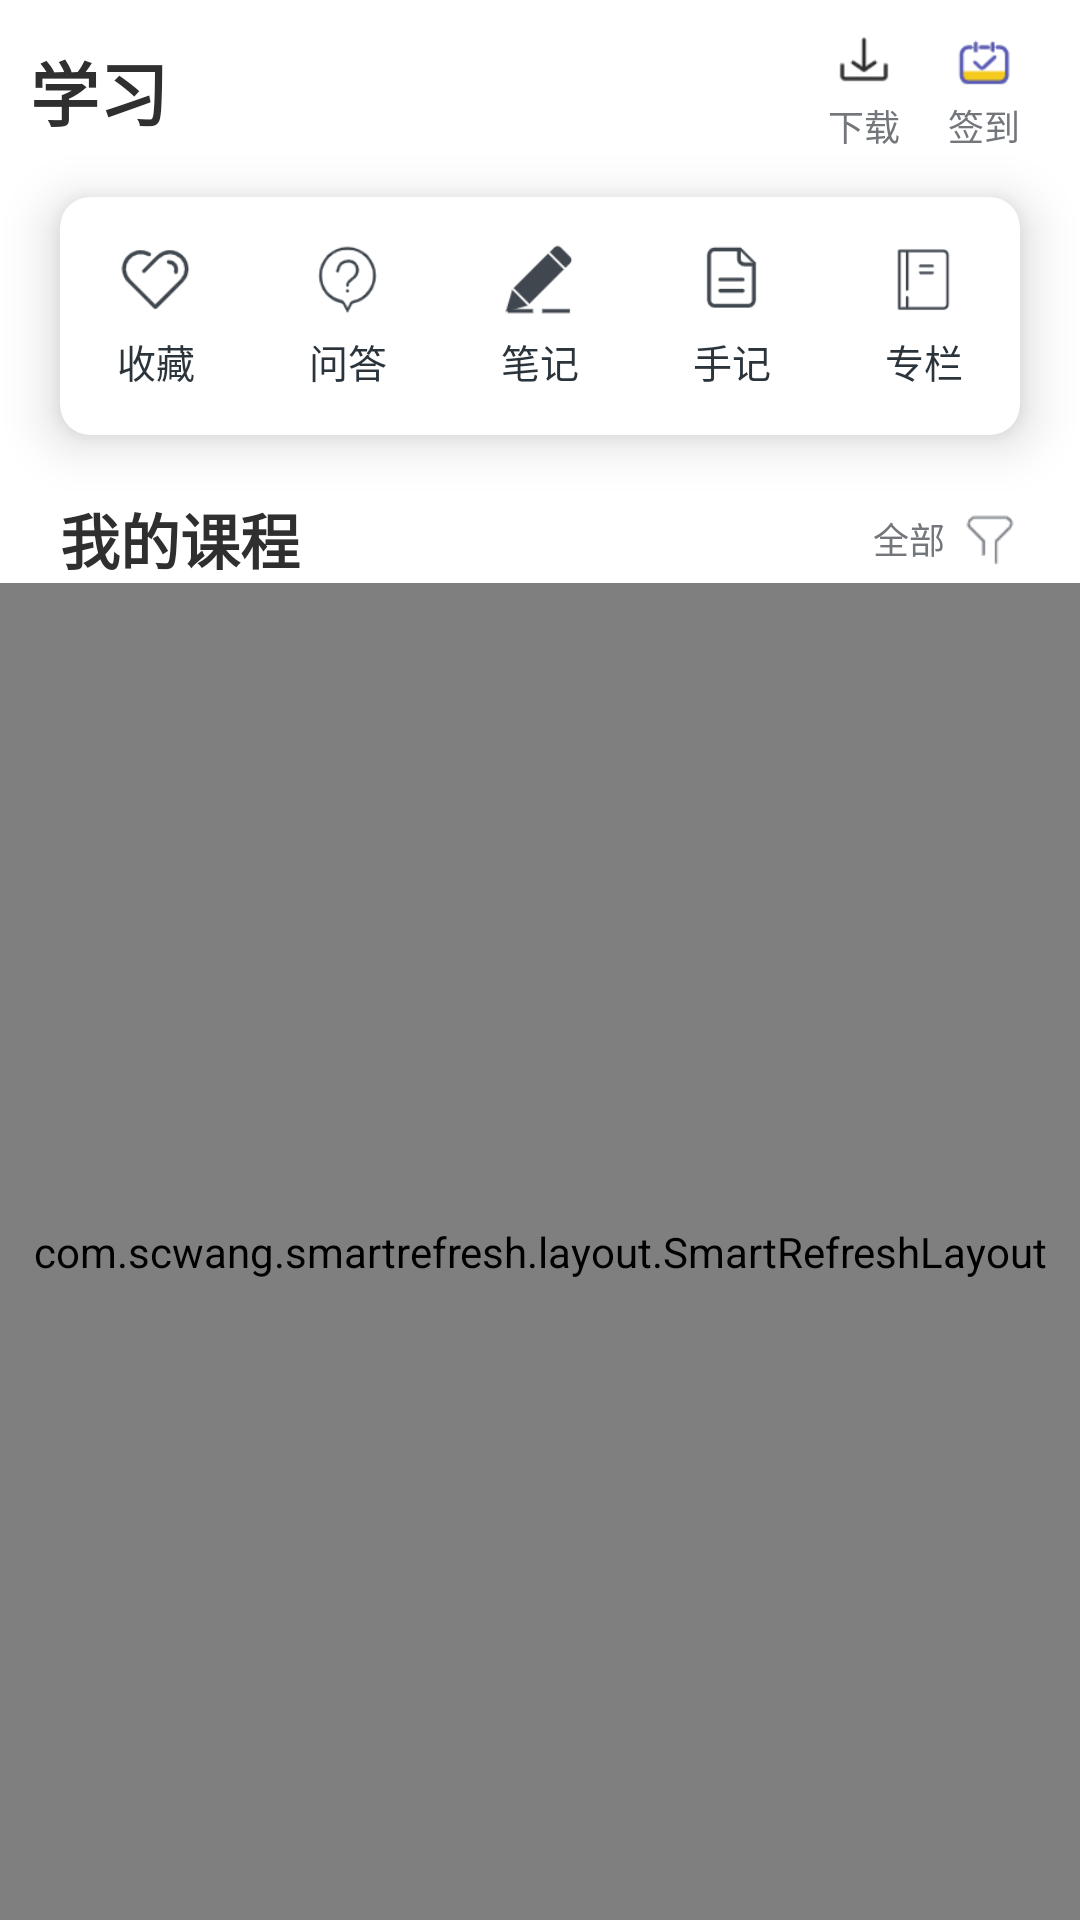

Screen size 1080 x 1920. Icon name, then its box in pixels as (left=x1, top=y1, right=x2, bottom=y2):
select: (left=966, top=515, right=1014, bottom=564)
